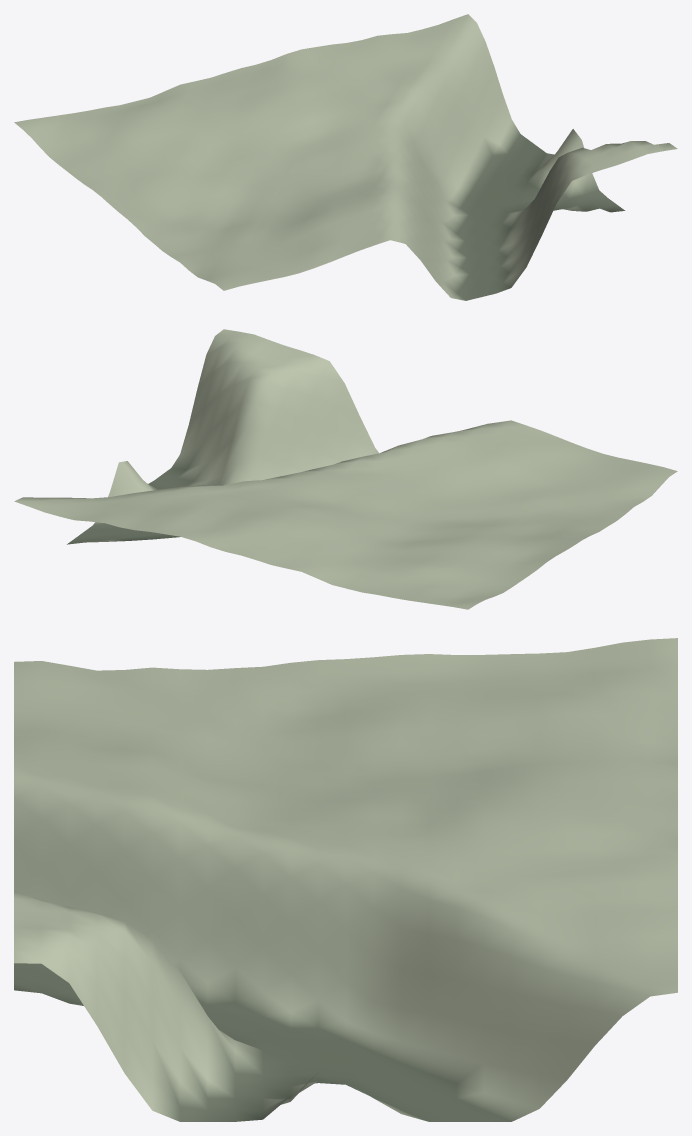
The picture shows the model from 3 angles, top to bottom: view 1: azimuth 30°, elevation 25°; view 2: azimuth 150°, elevation 25°; view 3: azimuth 270°, elevation 25°; orthographic projection. The views are drawn at different scales.
Parts seen in each view (by area): view 1: world-ground/90-96; view 2: world-ground/90-96; view 3: world-ground/90-96.
Part boxes in pixels (x1=…): world-ground/90-96: x1=14, y1=14, x2=677, y2=300; world-ground/90-96: x1=14, y1=329, x2=677, y2=609; world-ground/90-96: x1=14, y1=638, x2=677, y2=1121.
Size of the model in its own units: 37.5 by 8.11 by 30.
